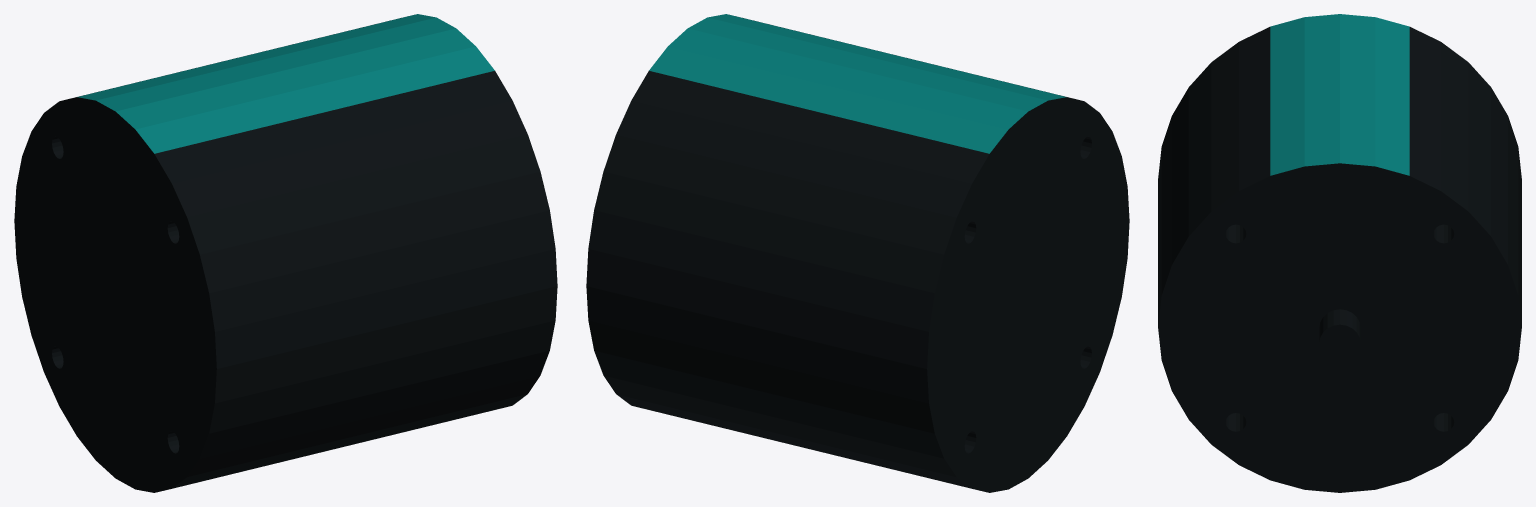
File: kit_motor_35.obj
The picture shows the model from 3 angles, left to right: view 1: azimuth 30°, elevation 25°; view 2: azimuth 150°, elevation 25°; view 3: azimuth 270°, elevation 25°; orthographic projection. The views are drawn at different scales.
Visible parts, largest first — view 1: kit_motor_35; view 2: kit_motor_35; view 3: kit_motor_35.
Boxes of the visible parts, x1,y1,x2,y2 form: kit_motor_35: [14, 14, 557, 492]; kit_motor_35: [586, 14, 1129, 492]; kit_motor_35: [1158, 14, 1521, 492].
Size of the model in its own units: 0.075 by 0.07 by 0.07.
